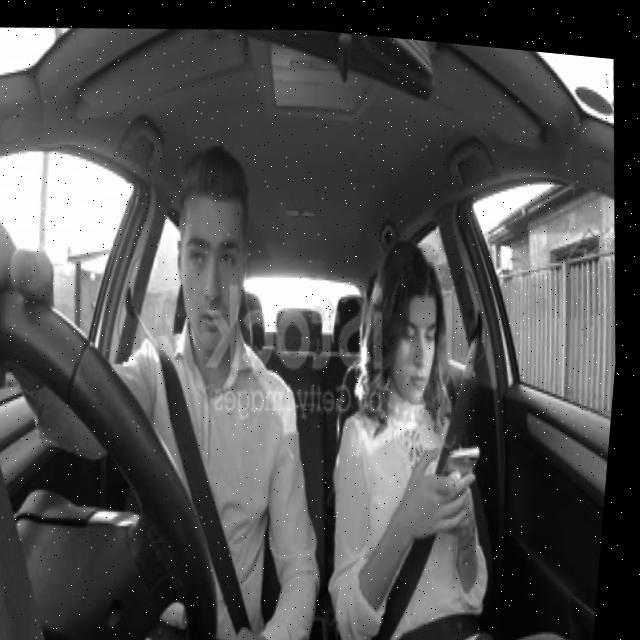PhoneCall: (442, 426, 494, 494)
